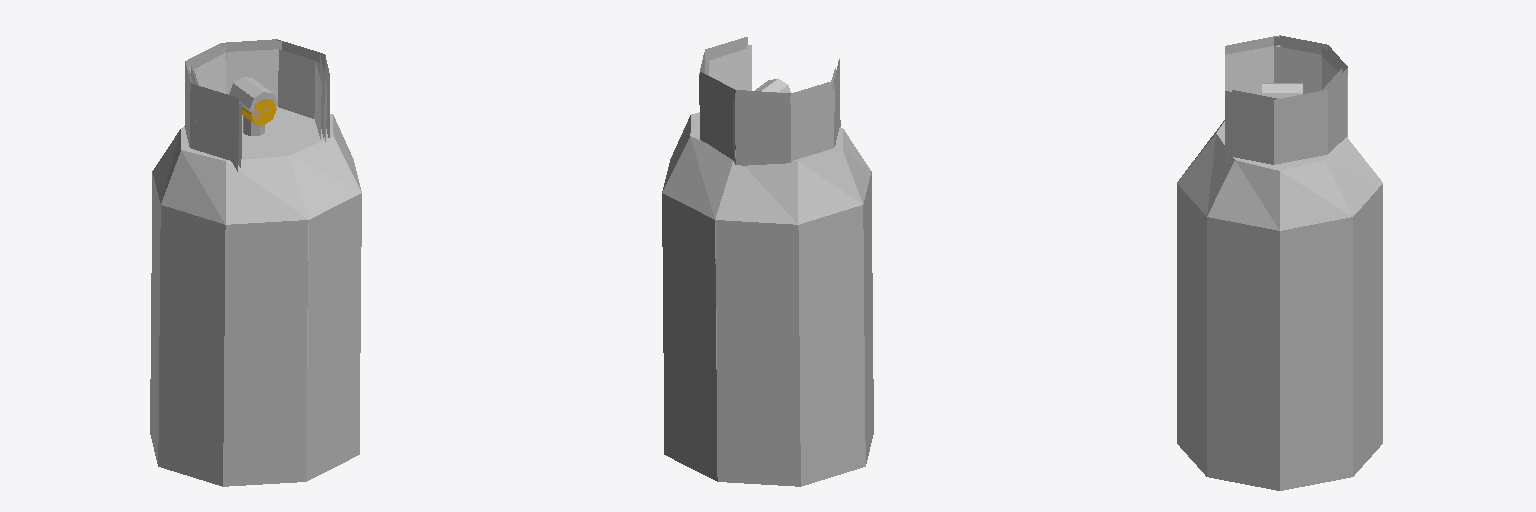
3 views of the same model, side by side, from view 1: azimuth 30°, elevation 25°; view 2: azimuth 150°, elevation 25°; view 3: azimuth 270°, elevation 25° (orthographic).
Visible parts, largest first — view 1: outline, canister, spigot; view 2: outline, canister; view 3: outline, canister.
Boxes of the visible parts, <box> form: outline: <box>150,39,361,486</box>; canister: <box>189,49,326,368</box>; spigot: <box>242,99,276,124</box>; outline: <box>662,37,873,486</box>; canister: <box>705,45,835,368</box>; outline: <box>1177,35,1382,490</box>; canister: <box>1225,45,1347,137</box>.
Bounding box in the file's own units: 12.1 × 22.34 × 11.09.
4 materials, 2 textured.